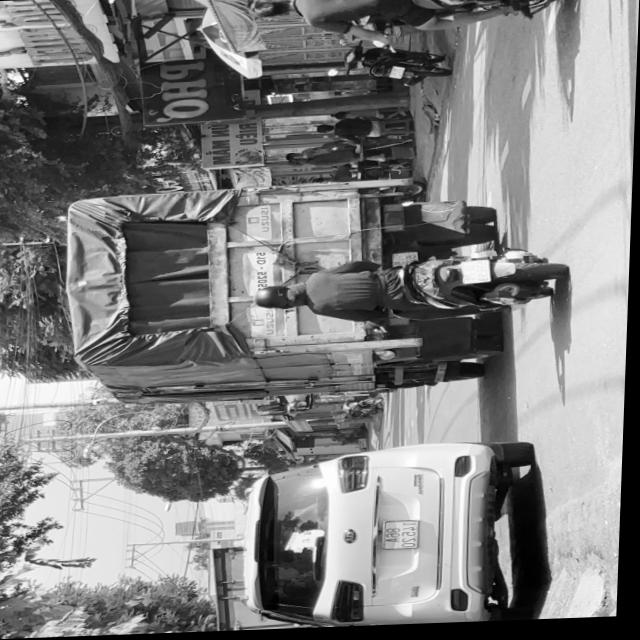helmet: (255, 283, 306, 312)
licenseplate: (253, 245, 569, 333), (249, 0, 572, 44)
motorcyclist: (251, 0, 297, 19)
nohelmet: (463, 262, 493, 287)
